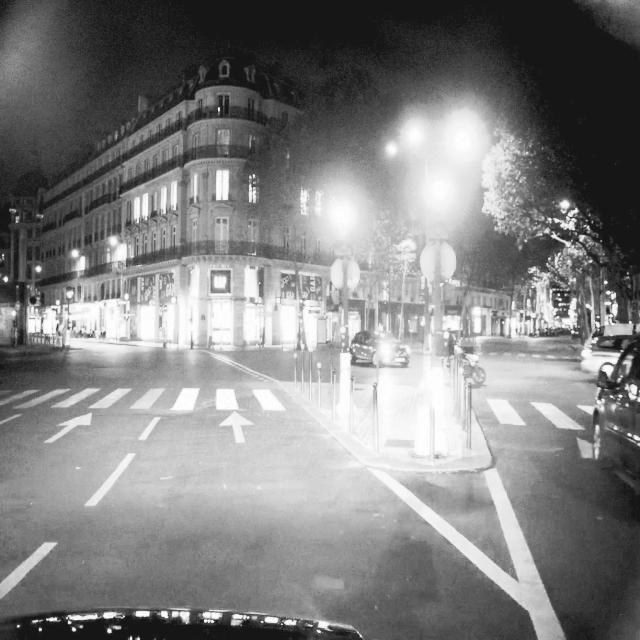Light: (428, 175, 452, 224), (334, 203, 352, 255)
Sign: (419, 241, 457, 285), (331, 257, 361, 293)
